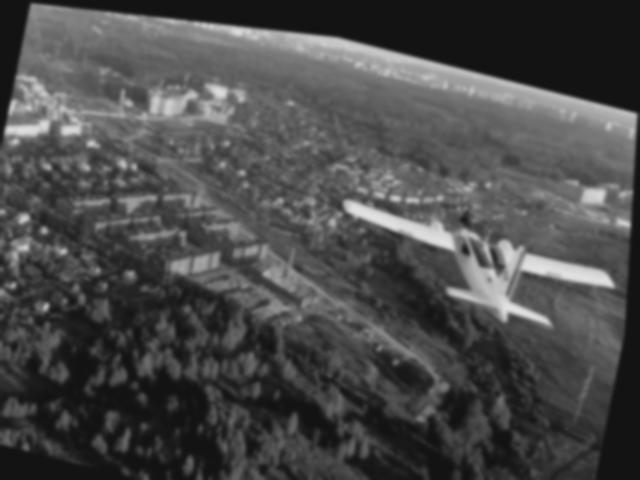hedef: (316, 161, 634, 345)
